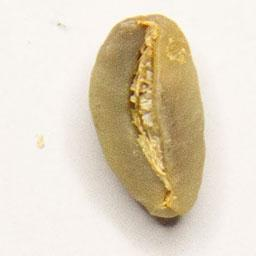longberry: (86, 10, 209, 223)
